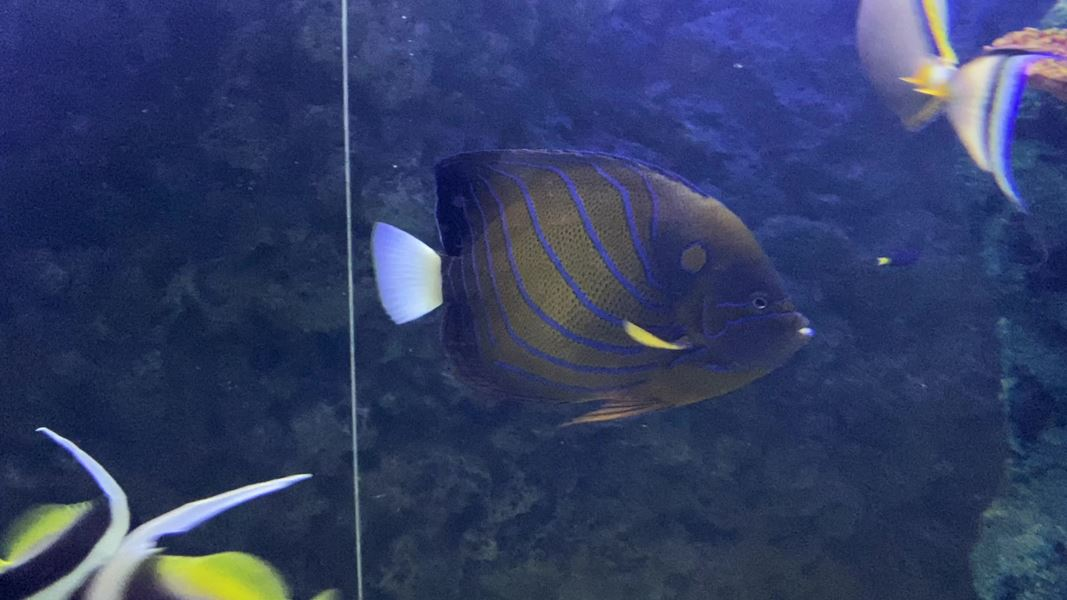Blue ring angelfish: (360, 144, 840, 448)
